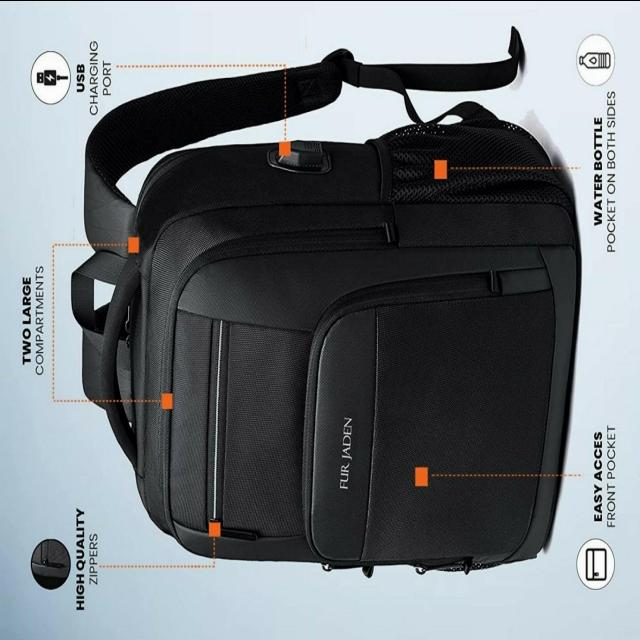backpack: (71, 27, 581, 578)
